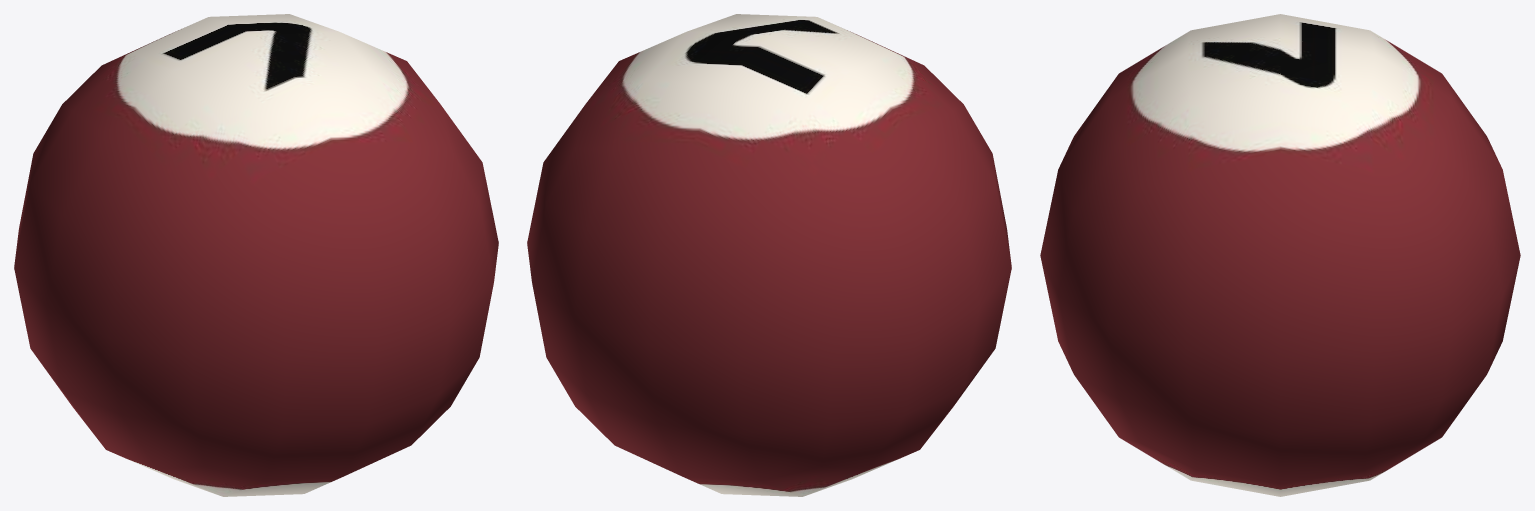
Rendered from ball_07.fbx.
3 renders of one model, left to right at view 1: azimuth 30°, elevation 25°; view 2: azimuth 150°, elevation 25°; view 3: azimuth 270°, elevation 25°, orthographic.
Parts seen in each view (by area): view 1: BilliardBall.007; view 2: BilliardBall.007; view 3: BilliardBall.007.
Boxes of the visible parts, x1,y1,x2,y2 form: BilliardBall.007: [14, 14, 498, 496]; BilliardBall.007: [527, 14, 1011, 496]; BilliardBall.007: [1040, 14, 1520, 496].
Bounding box in the file's own units: 0.0753 × 0.0753 × 0.0753.
